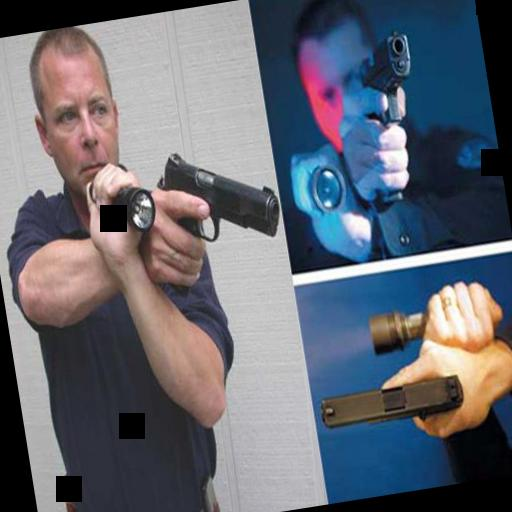Handgun: (138, 134, 286, 298), (342, 20, 434, 208), (314, 366, 464, 437)
